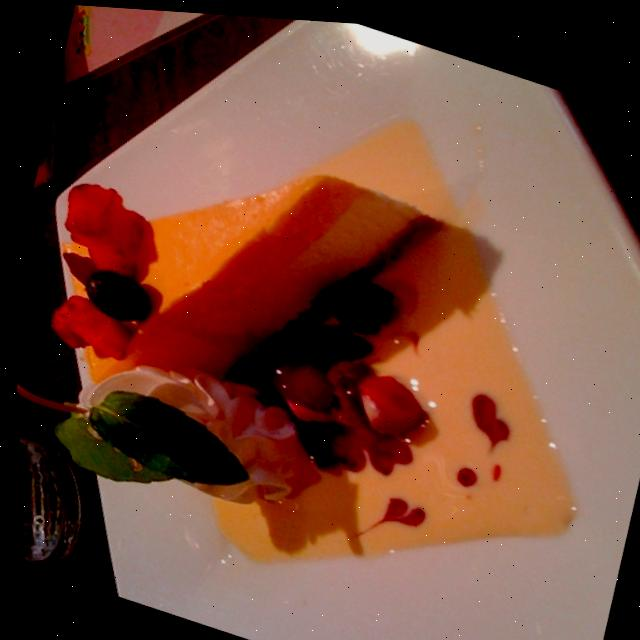蛋糕甜品: (24, 43, 476, 507)
